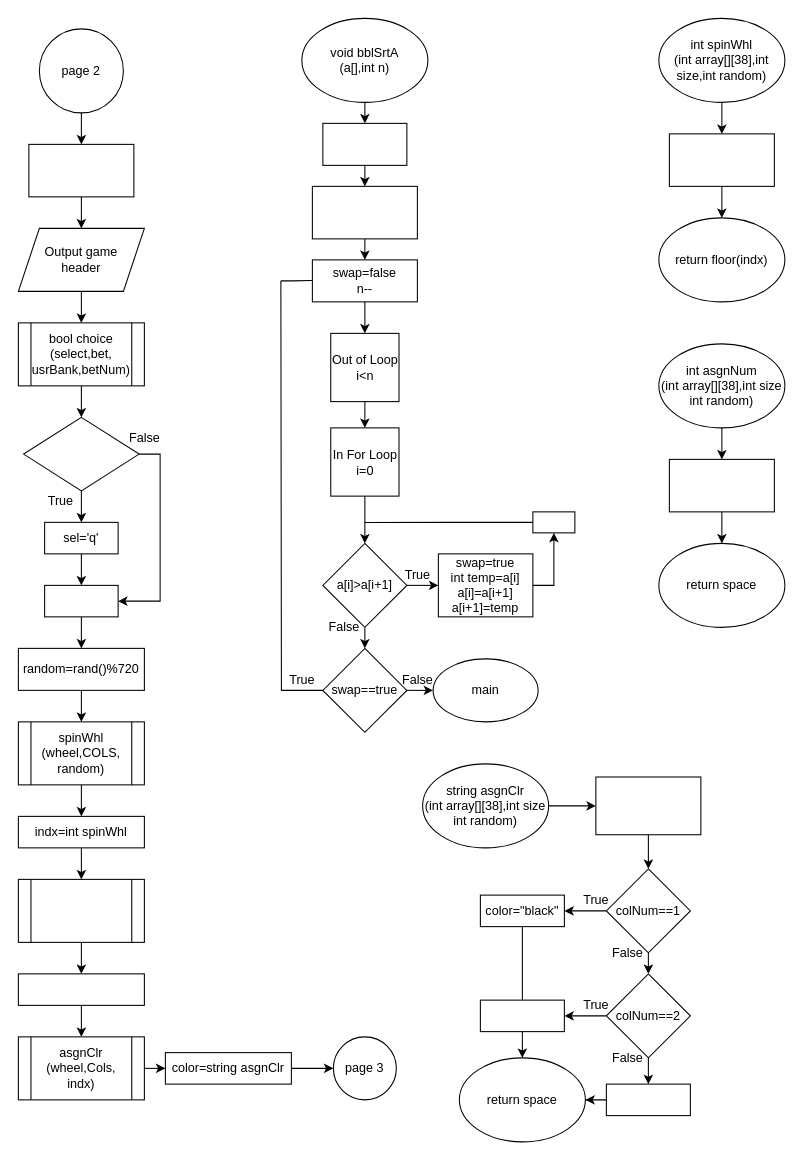
The diagram is 803 pixels wide and 1160 high, and some of its shapes have lost their labels. Here are the shapes that lost their labels. From the top down, the centre of each, then its label:
(x=364, y=143): Declare swap
(x=721, y=159): float indx indx=random%38
(x=81, y=170): d-wloop select!='q' or 'Q'
(x=364, y=212): d-wloop swap==true
(x=81, y=453): bool choice==true
(x=721, y=485): int space space=array[0][indx]
(x=553, y=522): i++
(x=81, y=600): indx=0
(x=648, y=805): int colNum string color colNum=array[1][indx]
(x=80, y=910): asgnNum (wheel,Cols, indx)
(x=80, y=989): space=int asgnNum
(x=521, y=1015): color="red"
(x=647, y=1099): color="green"
